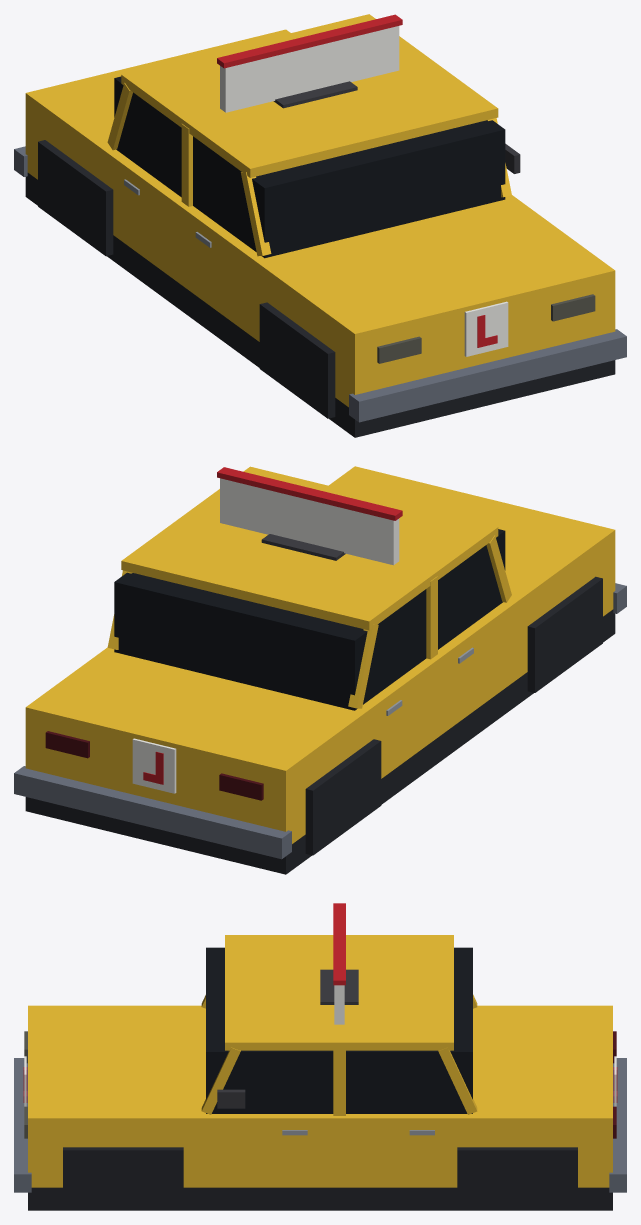
The model's file is learner_car.glb.
3 renders of one model, top to bottom at view 1: azimuth 30°, elevation 25°; view 2: azimuth 150°, elevation 25°; view 3: azimuth 270°, elevation 25°, orthographic. The views are drawn at different scales.
Parts seen in each view (by area): view 1: body_learner_yellow, body_getaway_glass, body_car_black, body_car_grey, sign_learner_white, frame_learner_yellow, sign_school_red, plates_learner_white, lights_lamp_off, sign_school_iron; view 2: body_learner_yellow, body_getaway_glass, body_car_black, body_car_grey, sign_learner_white, frame_learner_yellow, sign_school_red, plates_learner_white, lights_tail_off, sign_school_iron; view 3: body_learner_yellow, body_car_black, body_getaway_glass, body_car_grey, frame_learner_yellow, sign_school_red, sign_school_iron, mirror_school_iron, sign_learner_white.
Boxes of the visible parts, x1,y1,x2,y2 form: body_learner_yellow: [25, 14, 615, 407]; body_getaway_glass: [114, 76, 505, 258]; body_car_black: [25, 140, 615, 437]; body_car_grey: [14, 146, 626, 422]; sign_learner_white: [220, 26, 399, 112]; frame_learner_yellow: [107, 83, 511, 256]; sign_school_red: [217, 14, 402, 68]; plates_learner_white: [464, 301, 508, 356]; lights_lamp_off: [377, 294, 595, 363]; sign_school_iron: [273, 81, 357, 108]; body_learner_yellow: [25, 466, 615, 843]; body_getaway_glass: [114, 529, 505, 710]; body_car_black: [25, 576, 615, 874]; body_car_grey: [14, 583, 626, 859]; sign_learner_white: [220, 478, 399, 565]; frame_learner_yellow: [107, 535, 511, 708]; sign_school_red: [217, 467, 402, 520]; plates_learner_white: [132, 738, 176, 793]; lights_tail_off: [45, 731, 263, 800]; sign_school_iron: [261, 534, 345, 560]; body_learner_yellow: [28, 935, 612, 1187]; body_car_black: [28, 1147, 612, 1210]; body_getaway_glass: [206, 947, 472, 1113]; body_car_grey: [14, 1058, 626, 1192]; frame_learner_yellow: [201, 994, 477, 1115]; sign_school_red: [333, 903, 345, 985]; sign_school_iron: [320, 969, 358, 1004]; mirror_school_iron: [217, 1089, 245, 1108]; sign_learner_white: [334, 985, 344, 1024].
Bounding box in the file's own units: 2.25 × 1.84 × 4.82.
